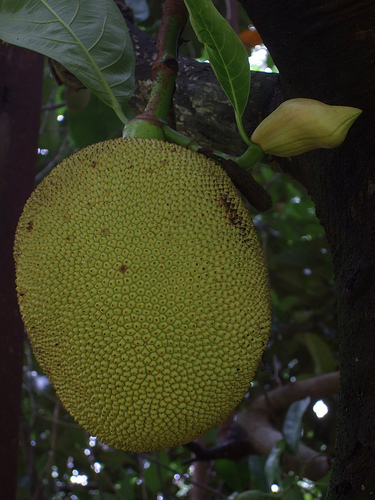jackfruit: (10, 115, 272, 456)
